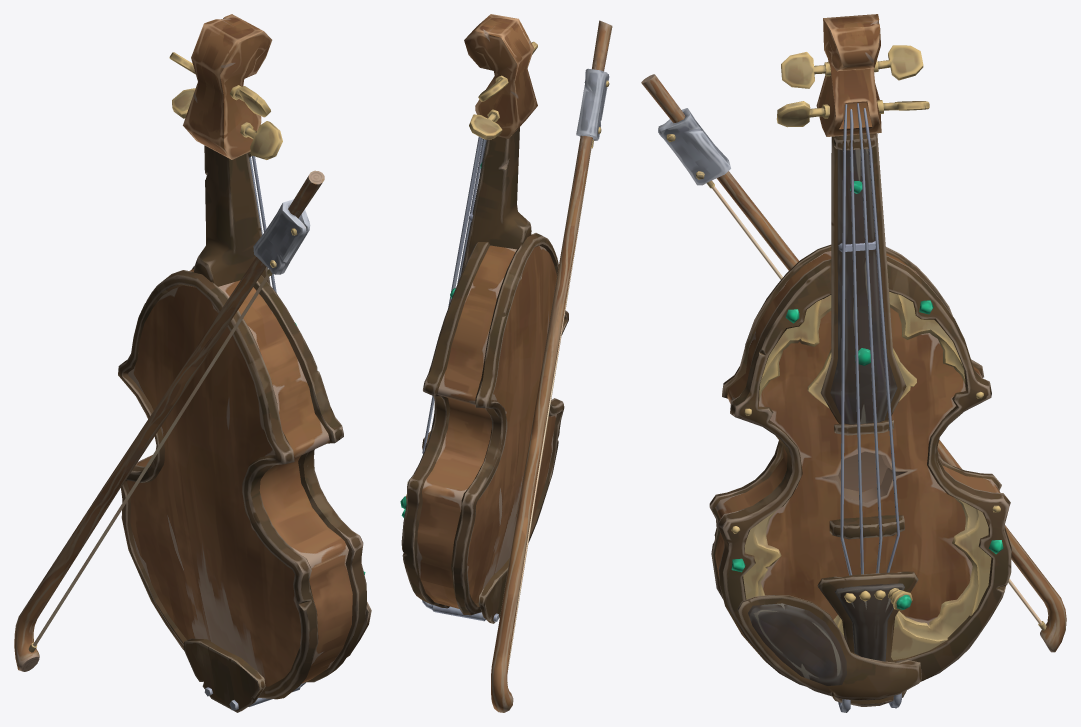
The model's file is violin.glb.
The picture shows the model from 3 angles, left to right: view 1: azimuth 30°, elevation 25°; view 2: azimuth 150°, elevation 25°; view 3: azimuth 270°, elevation 25°; orthographic projection. The views are drawn at different scales.
Parts seen in each view (by area): view 1: Violin_texturing, Smichoktexturing; view 2: Violin_texturing, Smichoktexturing; view 3: Violin_texturing, Smichoktexturing.
Part boxes in pixels (bbox=[...]): Violin_texturing: bbox=[118, 14, 371, 712]; Smichoktexturing: bbox=[14, 170, 324, 671]; Violin_texturing: bbox=[400, 14, 568, 623]; Smichoktexturing: bbox=[491, 20, 612, 712]; Violin_texturing: bbox=[709, 14, 1011, 712]; Smichoktexturing: bbox=[641, 74, 1066, 652].
Bounding box in the file's own units: 0.1796 × 0.5887 × 0.3329.
2 materials, 2 textured.
